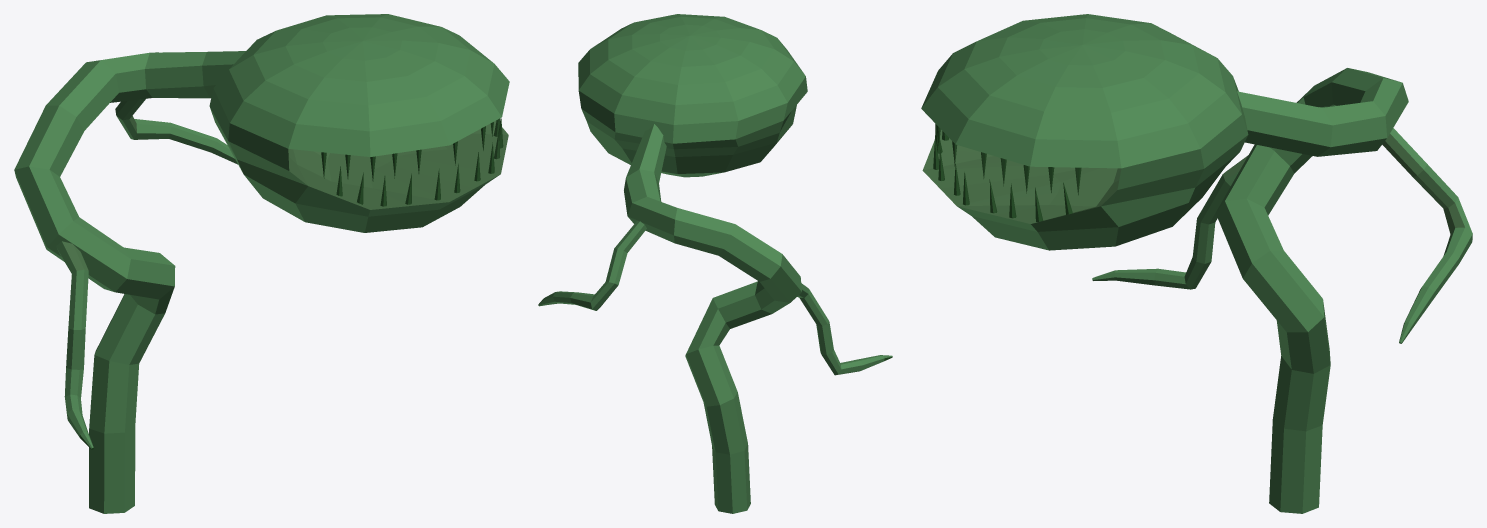
File: planta.fbx
3 renders of one model, left to right at view 1: azimuth 30°, elevation 25°; view 2: azimuth 150°, elevation 25°; view 3: azimuth 270°, elevation 25°, orthographic. The views are drawn at different scales.
Parts seen in each view (by area): view 1: planta; view 2: planta; view 3: planta.
Boxes of the visible parts, <box> form: planta: <box>14,14,509,513</box>; planta: <box>538,14,892,513</box>; planta: <box>921,14,1472,513</box>.
Size of the model in its own units: 182 by 220 by 204.
Materials: 1 (1 with a texture image).
